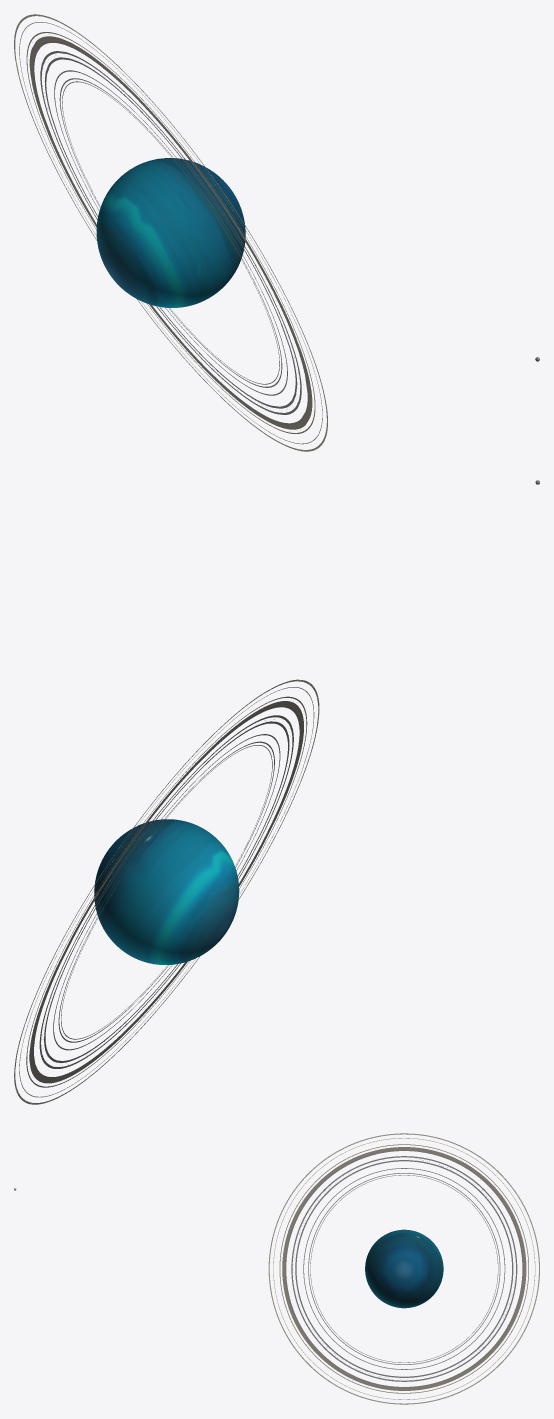
The model's file is planet_uranus.glb.
3 views of the same model, one above another, from view 1: azimuth 30°, elevation 25°; view 2: azimuth 150°, elevation 25°; view 3: azimuth 270°, elevation 25° (orthographic). The views are drawn at different scales.
Parts seen in each view (by area): view 1: 0, uranus2_A_uranus2_B_0; view 2: 0, uranus2_A_uranus2_B_0; view 3: uranus2_A_uranus2_B_0, 0.
Boxes of the visible parts, box(x1,y1,x2,y2) form: 0: box(96, 158, 245, 307); uranus2_A_uranus2_B_0: box(14, 14, 327, 451); 0: box(94, 819, 239, 964); uranus2_A_uranus2_B_0: box(14, 679, 319, 1104); uranus2_A_uranus2_B_0: box(268, 1133, 539, 1404); 0: box(365, 1229, 443, 1308).
Size of the model in its own units: 684 by 1629 by 3424.
4 materials, 4 textured.
